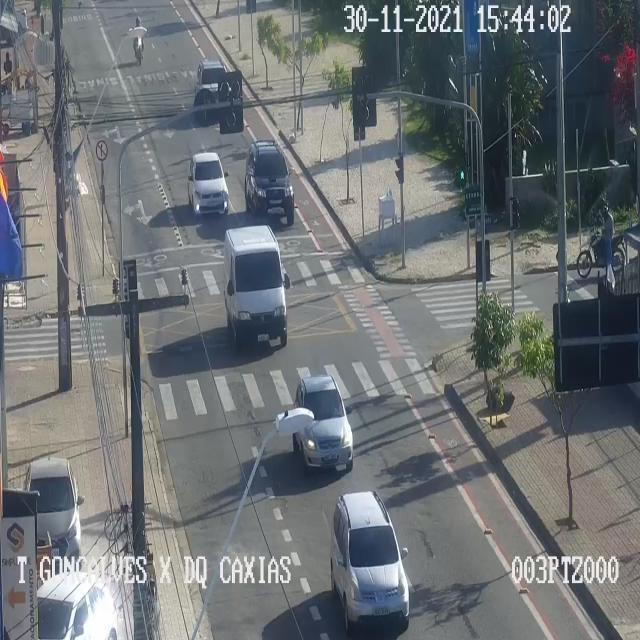Car: (332, 491, 410, 631), (224, 225, 290, 347), (294, 374, 353, 475), (25, 459, 84, 560), (36, 572, 120, 639), (242, 142, 296, 228), (187, 152, 230, 217), (194, 63, 226, 107)
Motorcycle: (575, 204, 621, 278), (131, 18, 145, 63)
